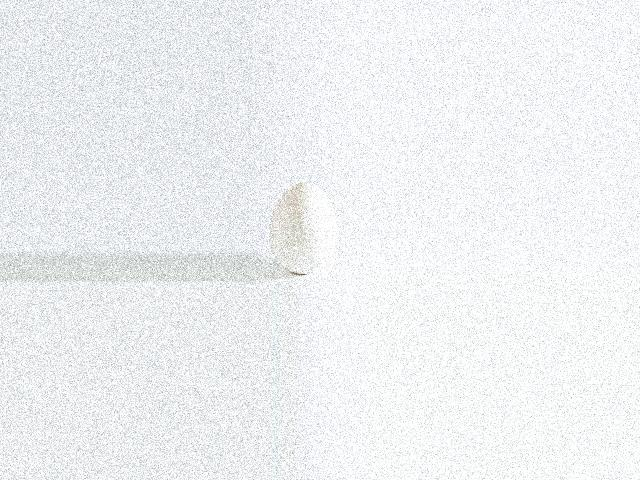egg: (270, 181, 338, 274)
